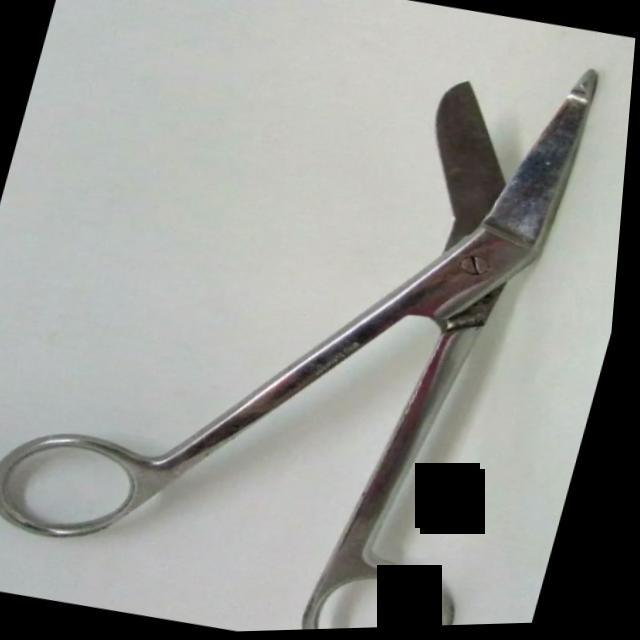Bandage Sciccors: (0, 0, 621, 640)
